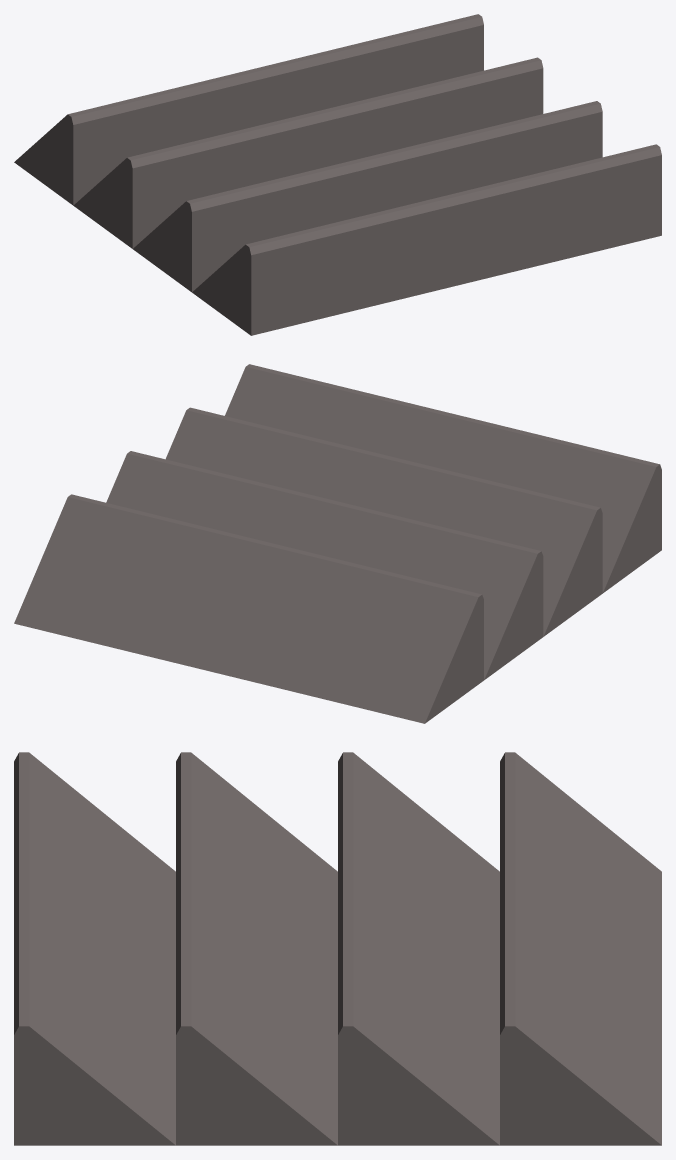
3 views of the same model, one above another, from view 1: azimuth 30°, elevation 25°; view 2: azimuth 150°, elevation 25°; view 3: azimuth 270°, elevation 25° (orthographic). The views are drawn at different scales.
Bounding box in the file's own units: 128 × 26 × 128.
Materials: 1 (1 with a texture image).
